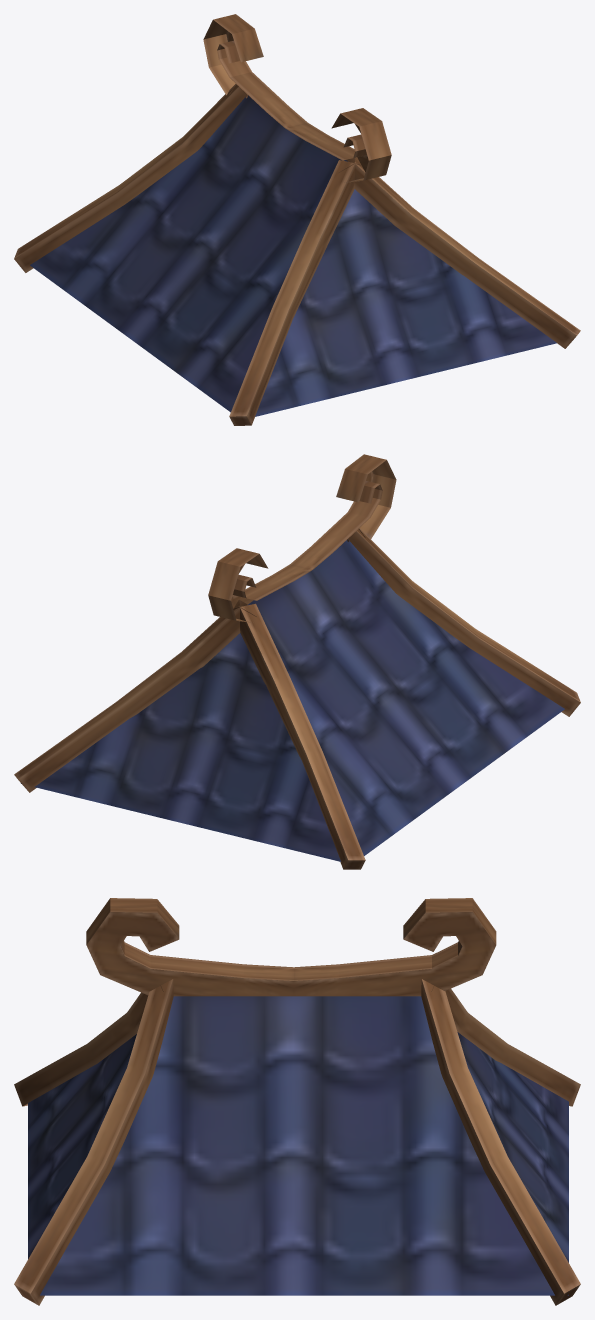
File: loof_1.FBX
The picture shows the model from 3 angles, top to bottom: view 1: azimuth 30°, elevation 25°; view 2: azimuth 150°, elevation 25°; view 3: azimuth 270°, elevation 25°; orthographic projection. The views are drawn at different scales.
Visible parts, largest first — view 1: Object427; view 2: Object427; view 3: Object427.
Boxes of the visible parts, <box> form: Object427: <box>14,14,580,425</box>; Object427: <box>14,454,580,869</box>; Object427: <box>14,898,580,1305</box>.
Size of the model in its own units: 60.42 by 39.52 by 68.09.
